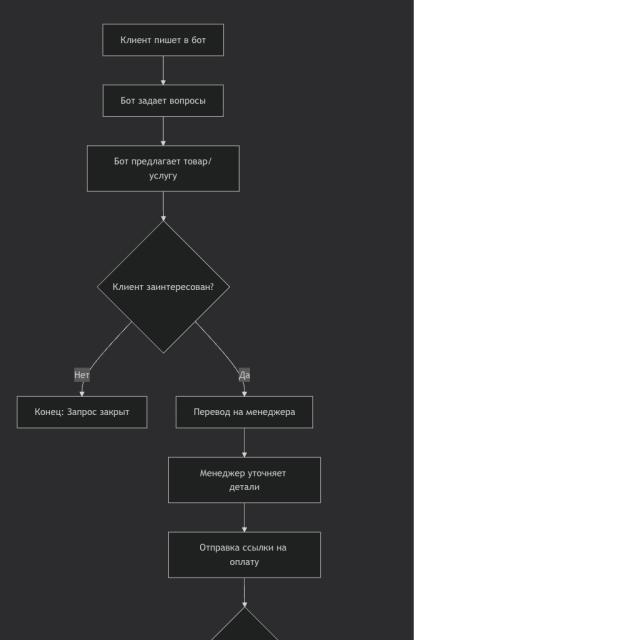arrow: (78, 321, 133, 397), (195, 322, 249, 397), (159, 118, 167, 146), (160, 192, 167, 222), (241, 428, 248, 458), (160, 57, 167, 86), (241, 579, 248, 608), (241, 504, 247, 532)
diamond: (97, 220, 232, 356)
rectangle: (168, 456, 322, 504), (168, 531, 322, 579), (87, 146, 241, 192), (176, 396, 314, 428), (17, 396, 148, 429), (103, 23, 225, 57), (104, 85, 224, 117)
text_region: (75, 371, 90, 380), (240, 370, 250, 380)
